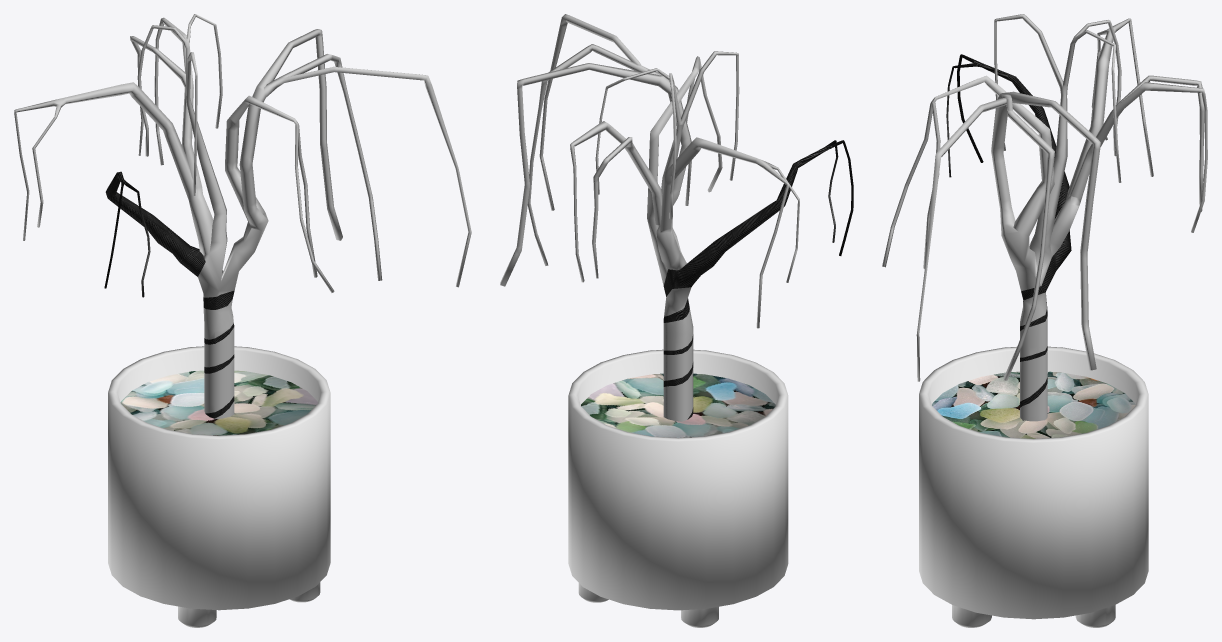
File: metal tree 4 weeping willow.fbx
3 views of the same model, side by side, from view 1: azimuth 30°, elevation 25°; view 2: azimuth 150°, elevation 25°; view 3: azimuth 270°, elevation 25° (orthographic). The views are drawn at different scales.
Parts seen in each view (by area): view 1: Cylinder, Cylinder.001; view 2: Cylinder, Cylinder.001; view 3: Cylinder, Cylinder.001.
Part boxes in pixels (box(x1,y1,x2,y2)): Cylinder: box(108, 346, 330, 627); Cylinder.001: box(14, 14, 471, 418); Cylinder: box(568, 349, 788, 627); Cylinder.001: box(500, 14, 853, 421); Cylinder: box(919, 346, 1148, 627); Cylinder.001: box(882, 14, 1207, 421).
Size of the model in its own units: 368 by 542 by 283.
